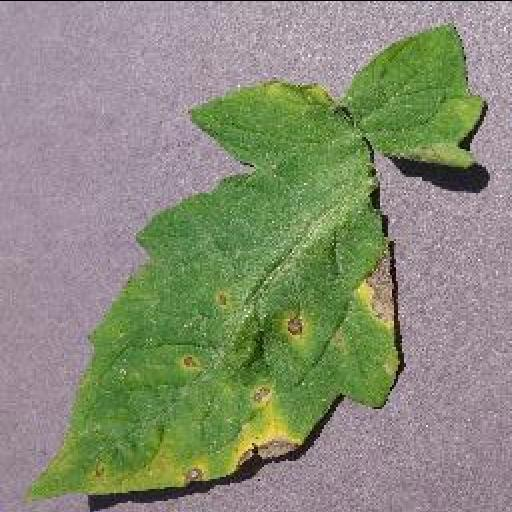disease_tomato: (12, 73, 406, 501)
